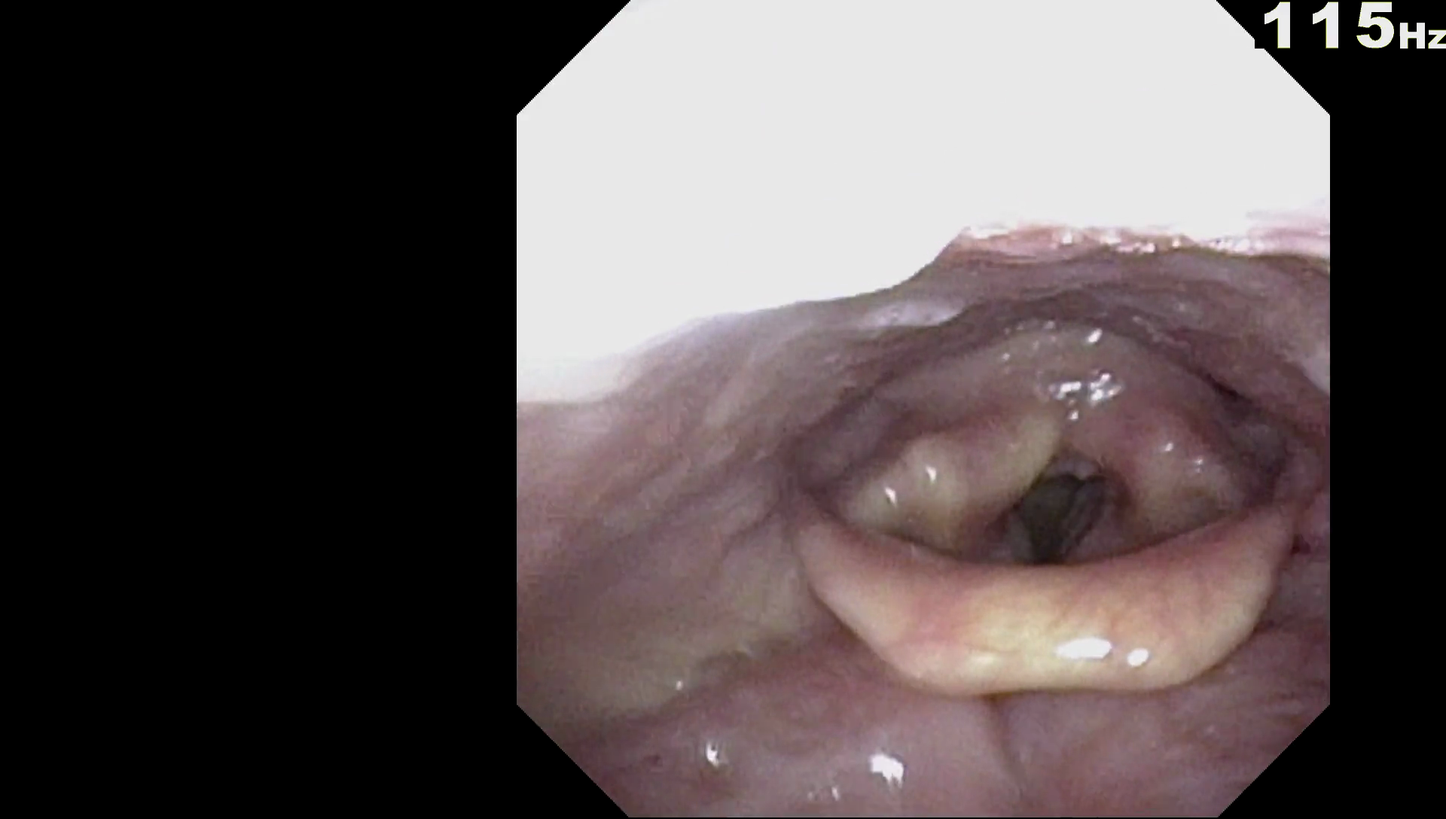trachea: (989, 452, 1130, 581)
